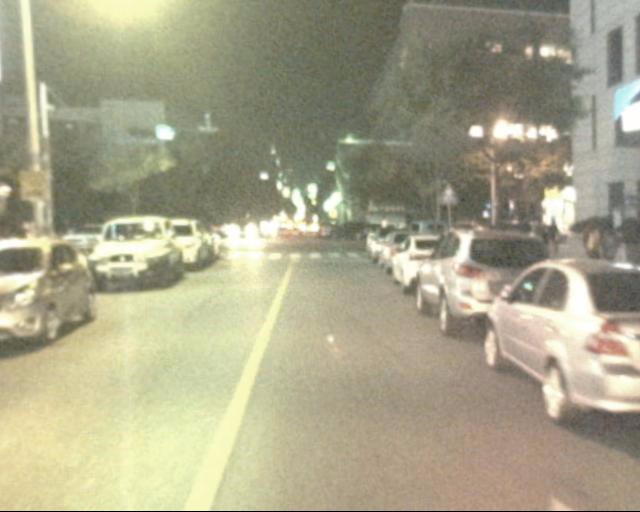person: (516, 213, 615, 268)
